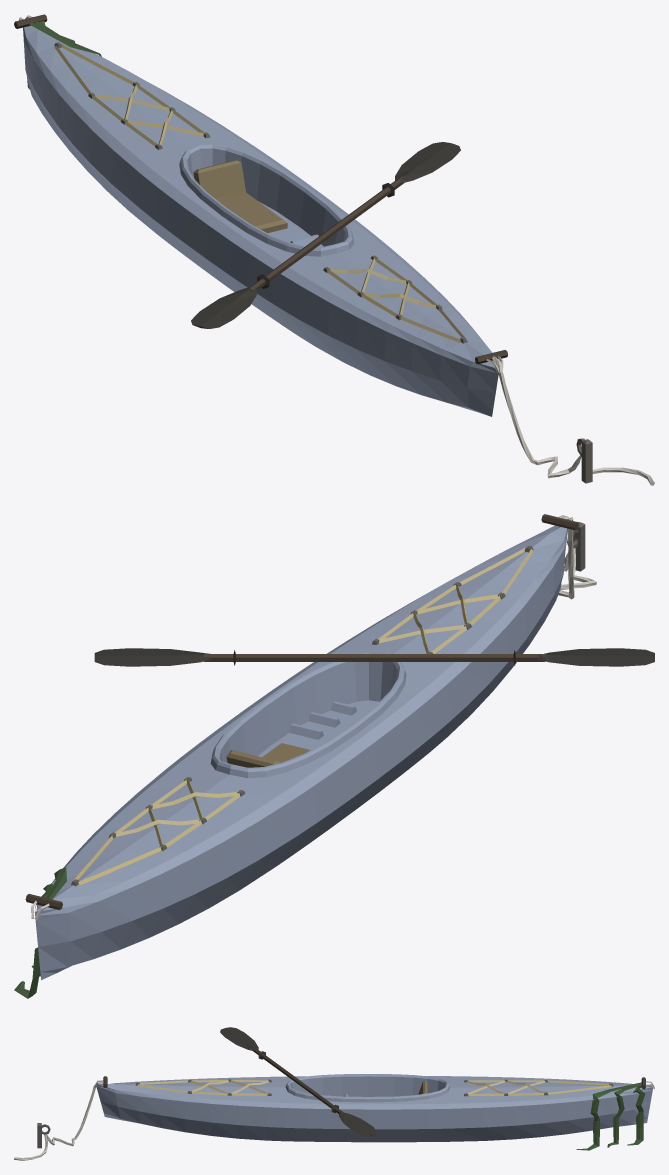
The model's file is sea-kayak-97b592.glb.
3 views of the same model, one above another, from view 1: azimuth 30°, elevation 25°; view 2: azimuth 150°, elevation 25°; view 3: azimuth 270°, elevation 25° (orthographic). The views are drawn at different scales.
Visible parts, largest first — view 1: sea-kayak-97b592; view 2: sea-kayak-97b592; view 3: sea-kayak-97b592.
Part boxes in pixels (left/top/right/bottom): sea-kayak-97b592: left=14, top=14, right=654, bottom=485; sea-kayak-97b592: left=14, top=514, right=654, bottom=998; sea-kayak-97b592: left=14, top=1027, right=654, bottom=1160.
Size of the model in its own units: 1.95 by 0.4846 by 4.82.
